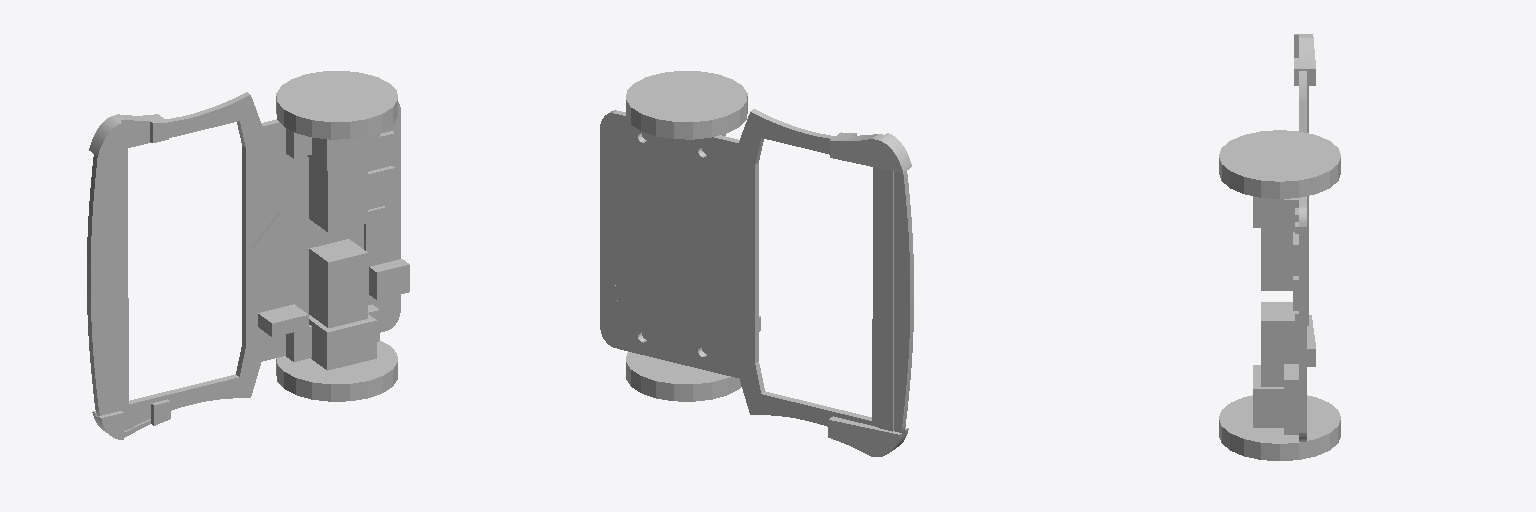
The picture shows the model from 3 angles: view 1: azimuth 30°, elevation 25°; view 2: azimuth 150°, elevation 25°; view 3: azimuth 270°, elevation 25°; orthographic projection.
Parts seen in each view (by area): view 1: obj_0; view 2: obj_0; view 3: obj_0.
Boxes of the visible parts, <box> form: obj_0: <box>87,71,409,439</box>; obj_0: <box>600,71,913,456</box>; obj_0: <box>1219,34,1340,460</box>.
Size of the model in its own units: 93.92 by 91.56 by 32.